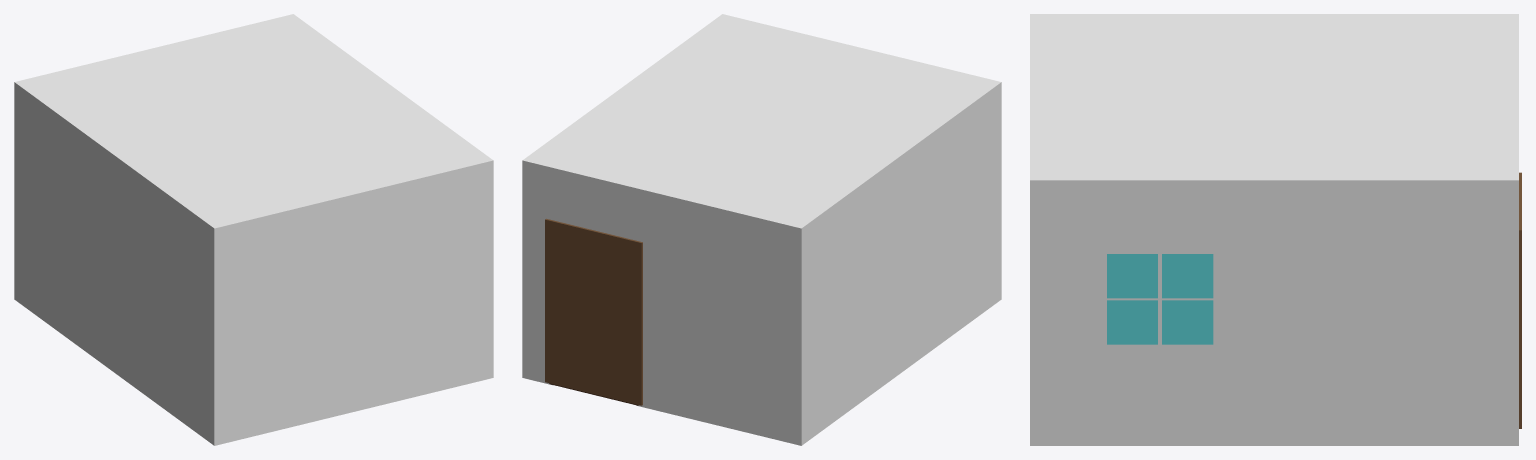
Rendered from full room.fbx.
The picture shows the model from 3 angles, left to right: view 1: azimuth 30°, elevation 25°; view 2: azimuth 150°, elevation 25°; view 3: azimuth 270°, elevation 25°; orthographic projection. The views are drawn at different scales.
Parts seen in each view (by area): view 1: Room / walls.001; view 2: Room / walls.001, Cube; view 3: Room / walls.001, Cube.005, Cube.
Part boxes in pixels (x1,y1,x2,y2): Room / walls.001: (14,14,493,445); Room / walls.001: (522,14,1001,445); Cube: (545,218,642,405); Room / walls.001: (1030,14,1518,445); Cube.005: (1107,254,1213,344); Cube: (1519,172,1521,428).
Bounding box in the file's own units: 2445 × 1820 × 3054.
